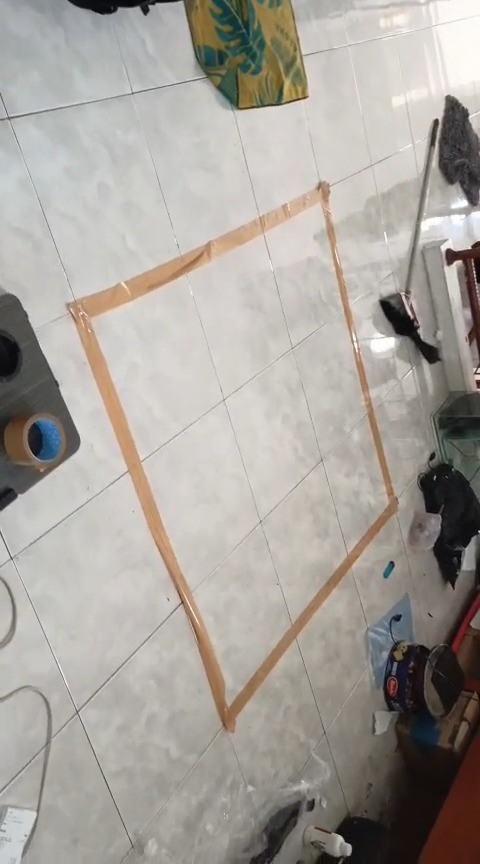floor marking: (70, 182, 397, 731)
